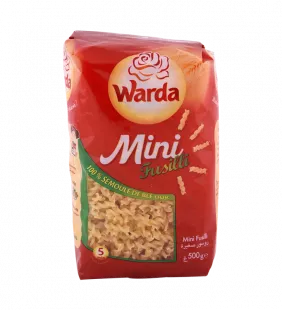LA ROSE BLANCHE: (52, 20, 229, 291)
